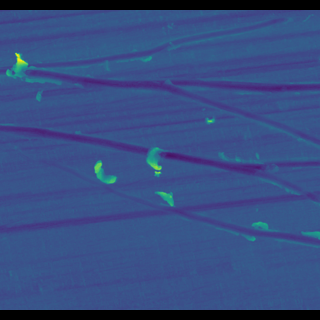Loch: (0, 124, 320, 244), (18, 73, 319, 148), (26, 23, 294, 76), (143, 144, 167, 178), (8, 57, 31, 91), (92, 158, 118, 186), (155, 189, 177, 206)
